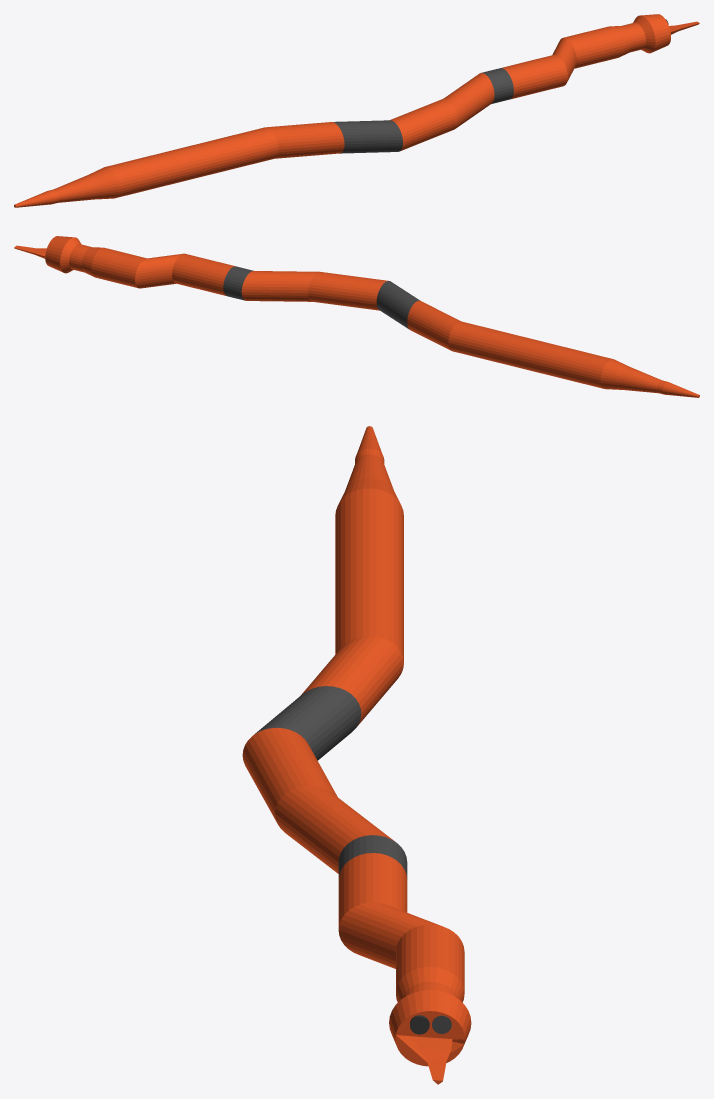
Rendered from snake.fbx.
The picture shows the model from 3 angles, top to bottom: view 1: azimuth 30°, elevation 25°; view 2: azimuth 150°, elevation 25°; view 3: azimuth 270°, elevation 25°; orthographic projection. The views are drawn at different scales.
Visible parts, largest first — view 1: Cylinder; view 2: Cylinder; view 3: Cylinder.
Boxes of the visible parts, x1,y1,x2,y2 form: Cylinder: (14,14,699,207); Cylinder: (14,236,699,397); Cylinder: (242,426,471,1084).
Bounding box in the file's own units: 876 × 41.2 × 130.
